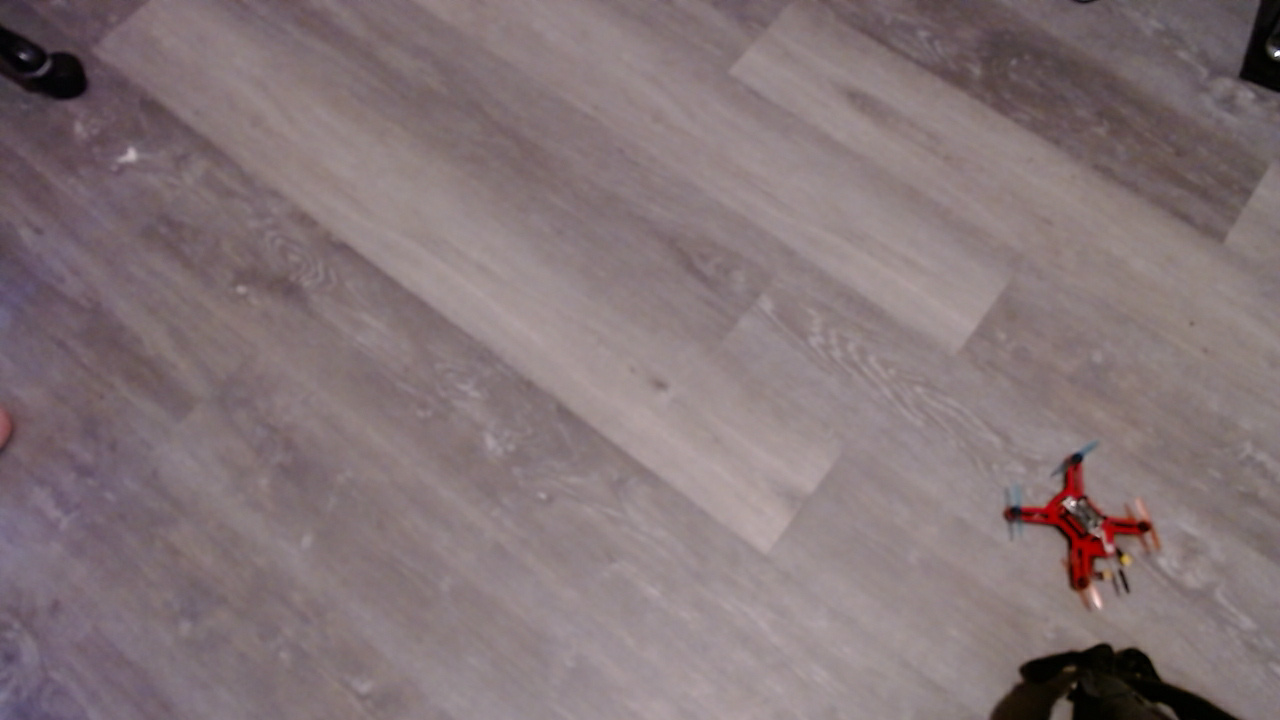crazyflie: (1002, 438, 1184, 620)
